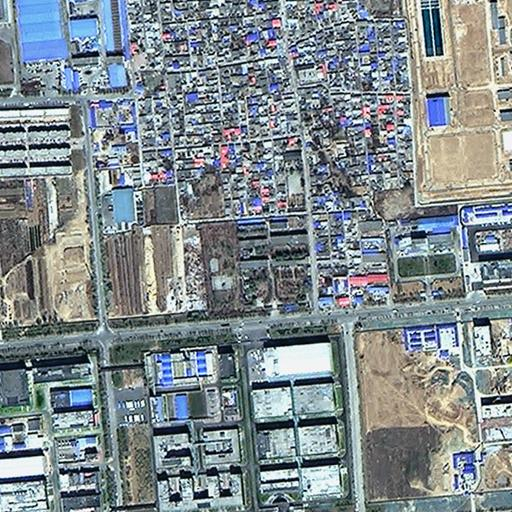school: (198, 216, 316, 314)
